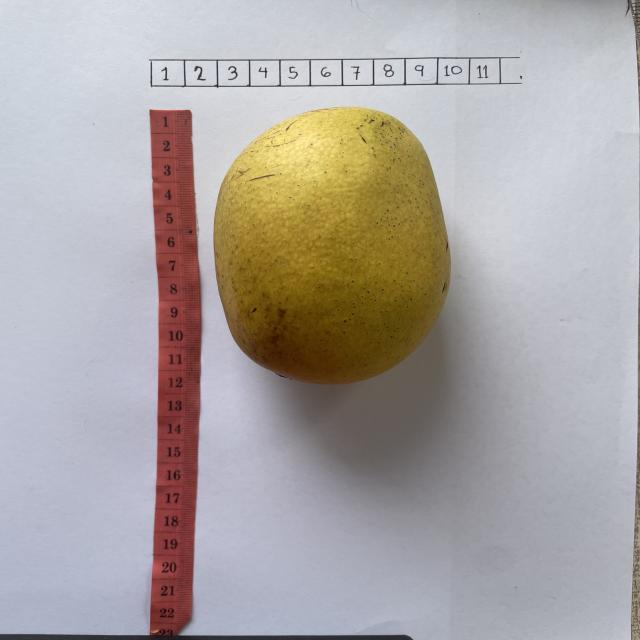Ripe: (212, 107, 452, 388)
